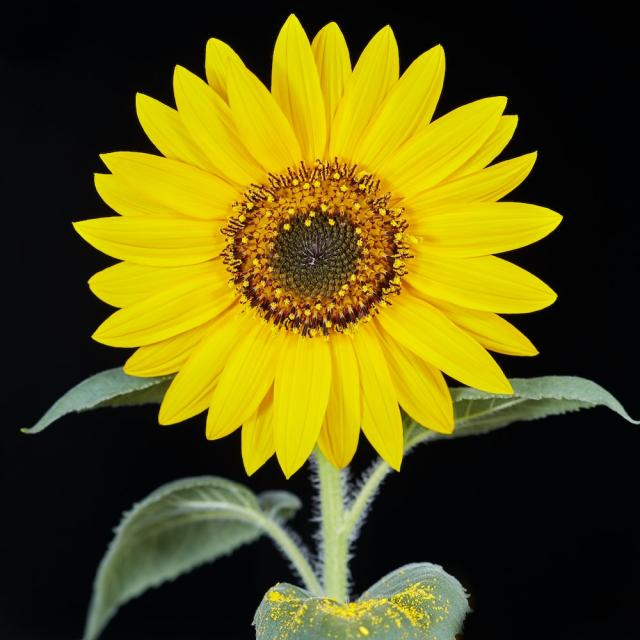sunflower: (69, 4, 573, 487)
